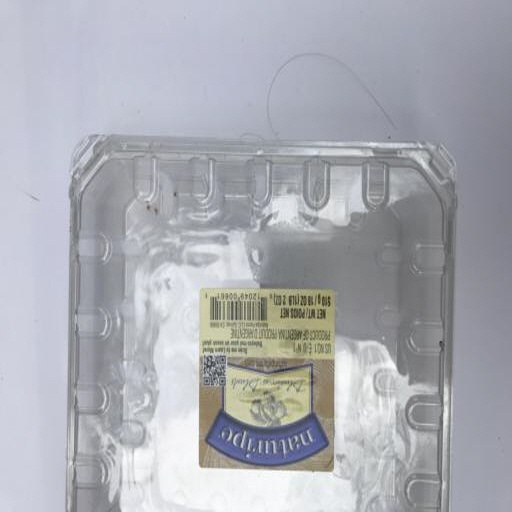Plastic_4: (64, 132, 459, 512)
